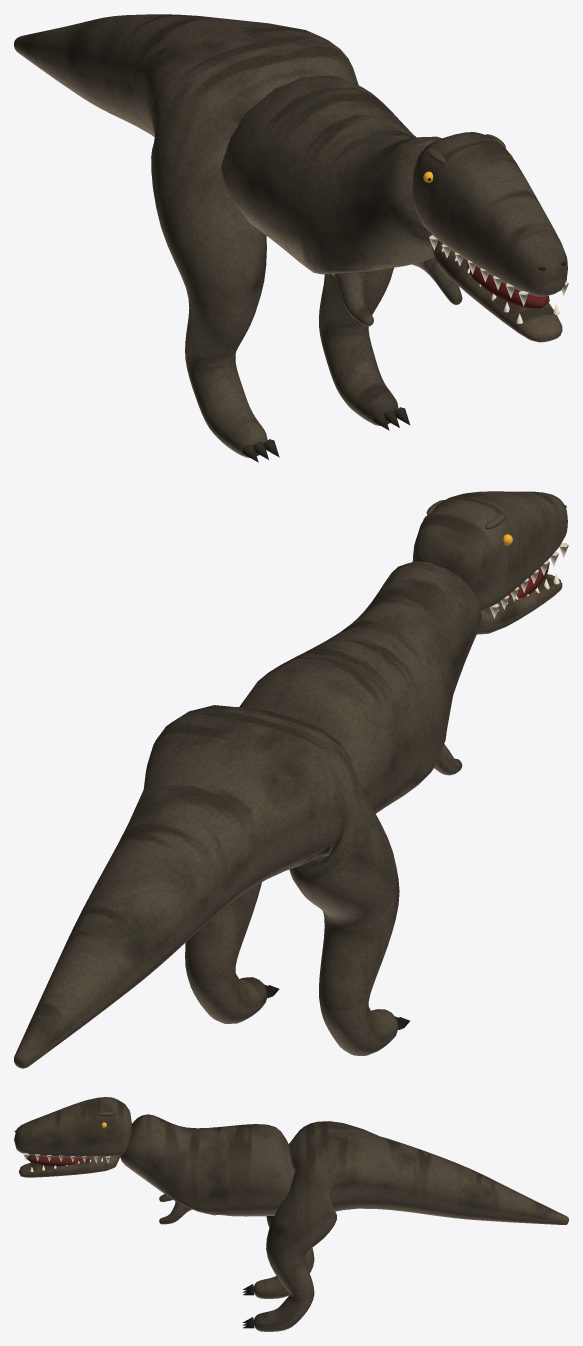
Rendered from tyrannosaurus_rex.glb.
The picture shows the model from 3 angles, top to bottom: view 1: azimuth 30°, elevation 25°; view 2: azimuth 150°, elevation 25°; view 3: azimuth 270°, elevation 25°; orthographic projection. The views are drawn at different scales.
Parts seen in each view (by area): view 1: tyrannosaurus_rex; view 2: tyrannosaurus_rex; view 3: tyrannosaurus_rex.
Boxes of the visible parts, x1,y1,x2,y2 form: tyrannosaurus_rex: (14, 14, 568, 462); tyrannosaurus_rex: (14, 491, 568, 1068); tyrannosaurus_rex: (14, 1097, 568, 1331).
Bounding box in the file's own units: 3.36 × 6.03 × 14.21.
10 materials, 3 textured.
